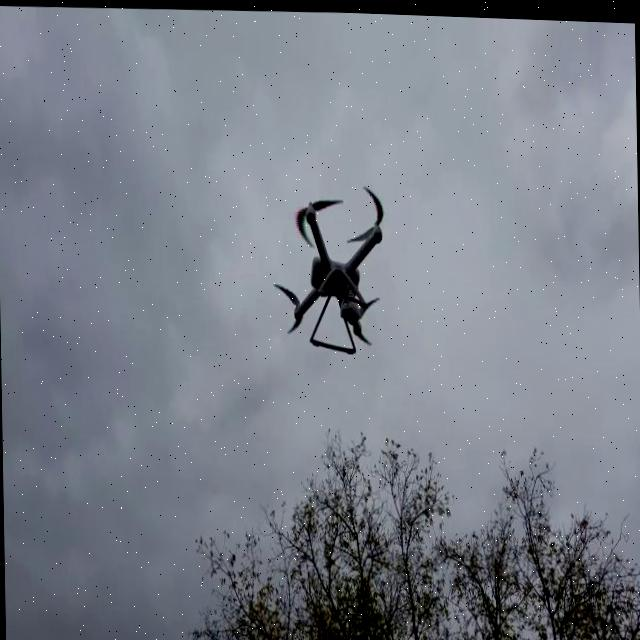drone: (269, 172, 392, 363)
